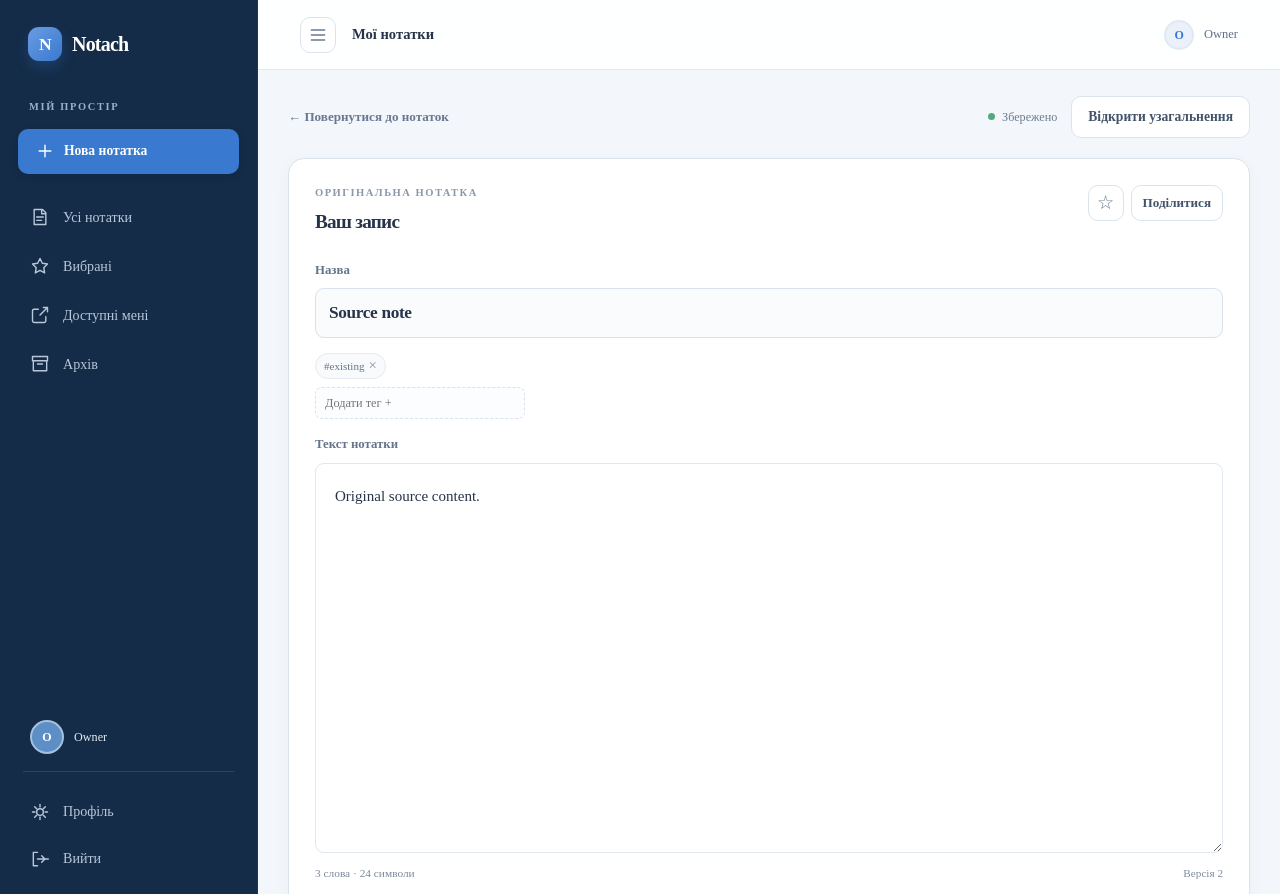
Test: note summary workspace › has a single sign-out entry in the sidebar rather than the profile form
Expected: the field showing "Source note" is shown, [315,288,1223,338]
Expected: the heading "Асистент узагальнення" is not shown
Click the button "Відкрити узагальнення".
click(1161, 117)  # box [1071,96,1250,138]
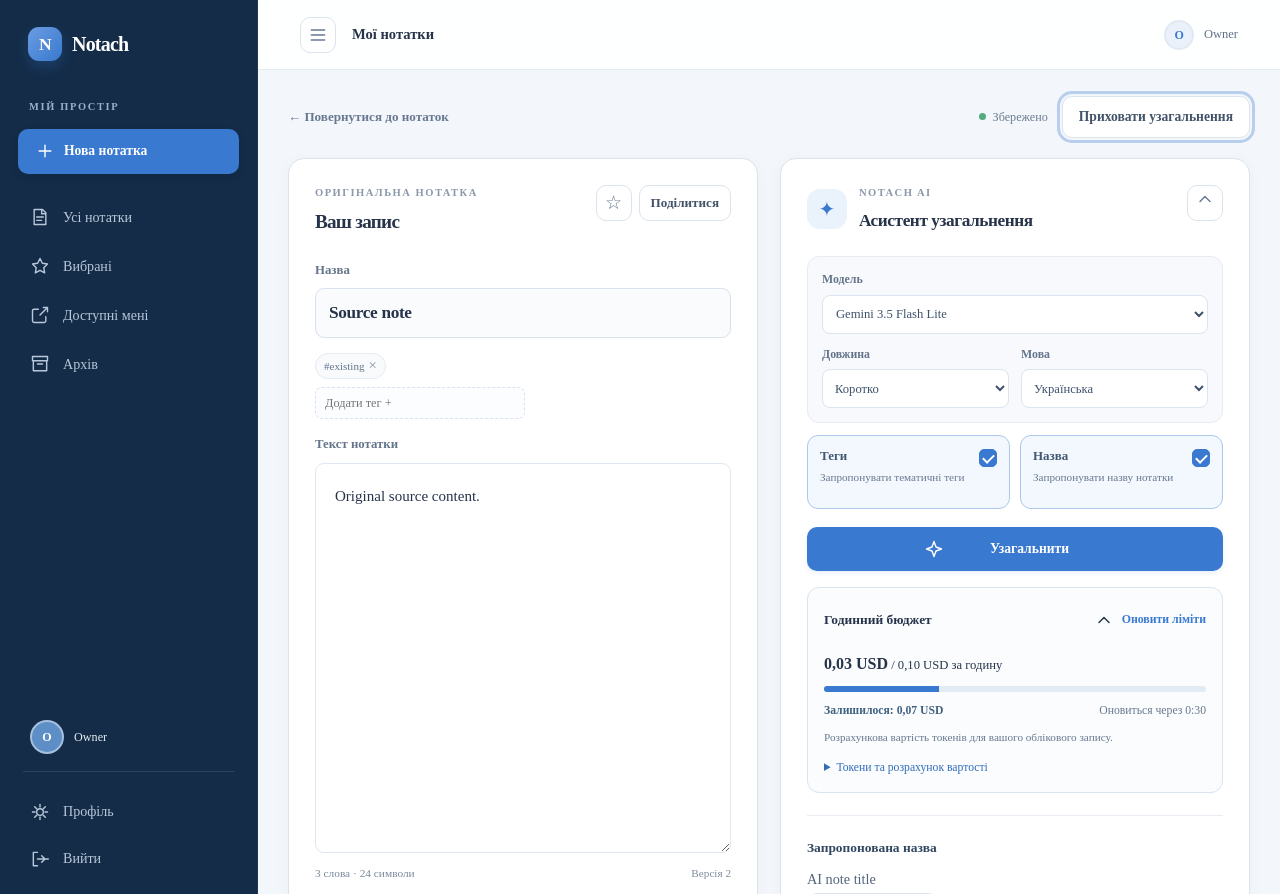
Click the link "Профіль".
click(72, 812)  # box [30,802,114,822]
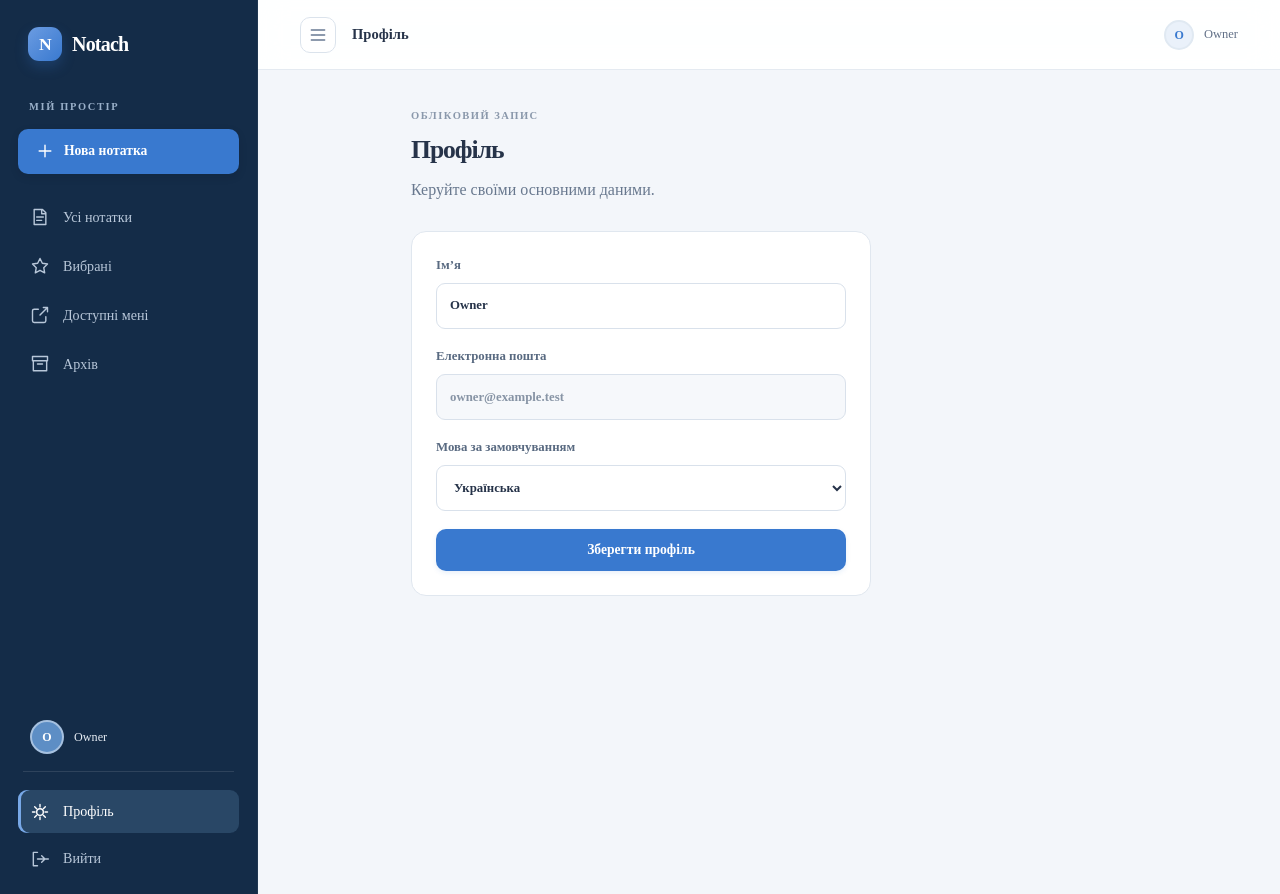
Expected: the number of buttons "Вийти" is 1, [18,837,239,880]
Result: the button "Зберегти профіль" is shown at [436,529,846,571]
